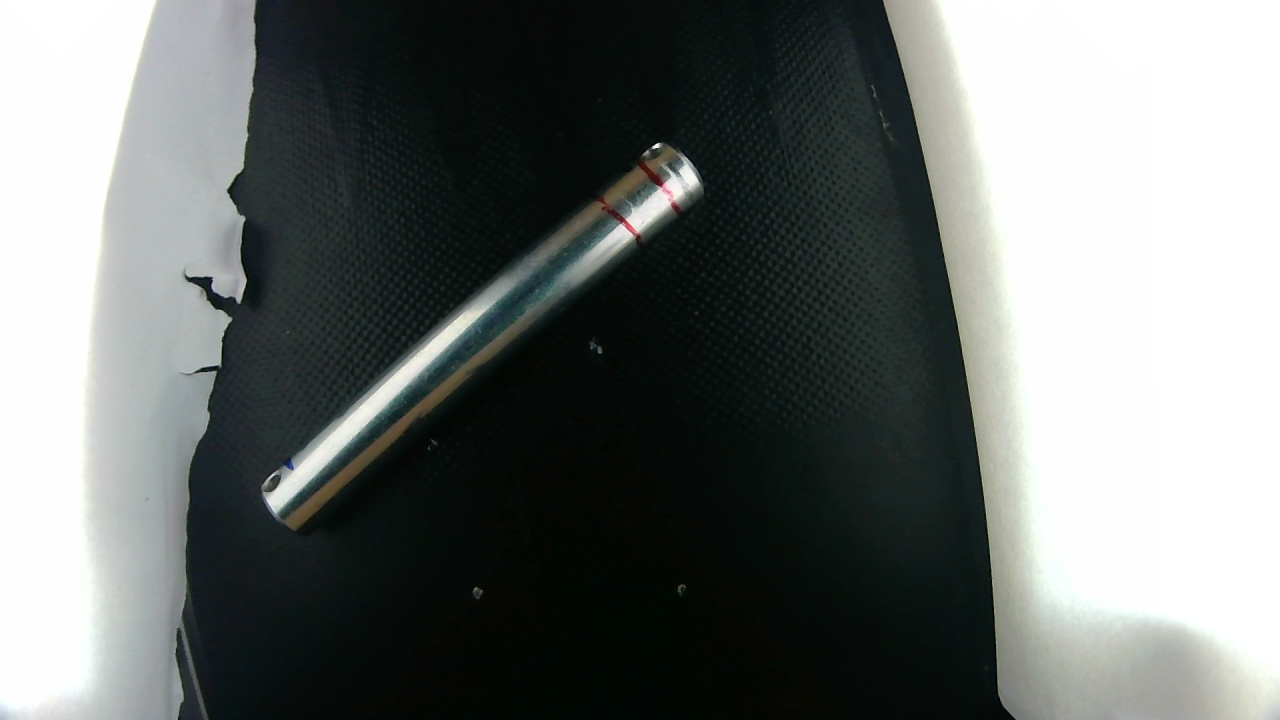odlinemark_pin: (619, 171, 666, 231)
